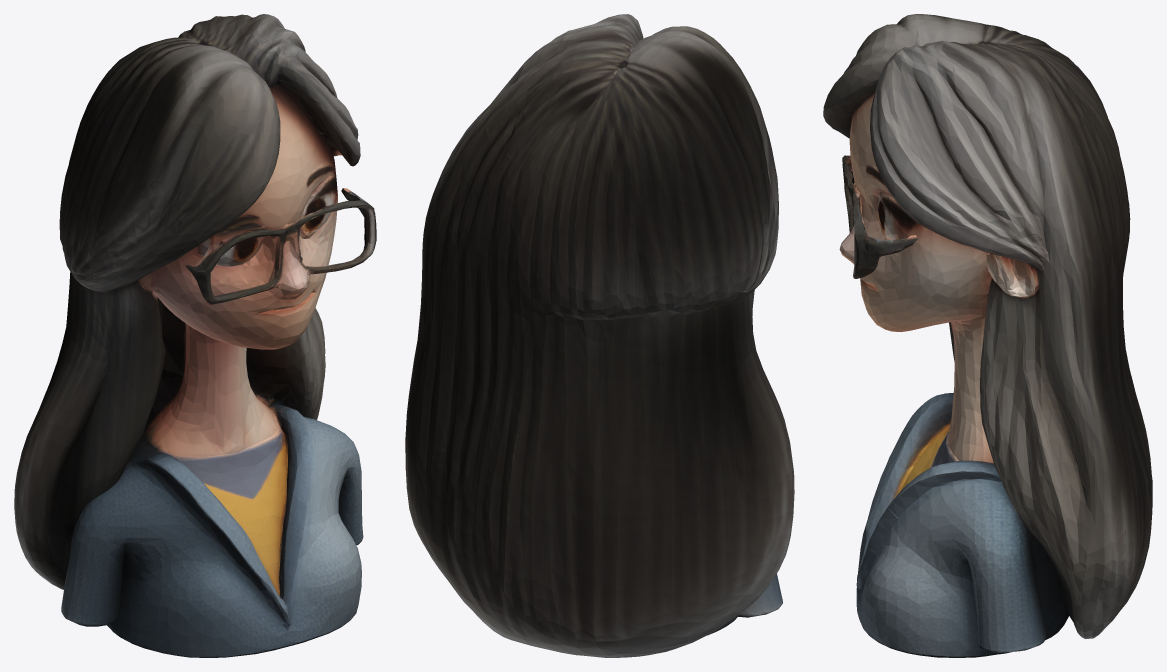
The model's file is Cutie1Avatar.glb.
The picture shows the model from 3 angles, left to right: view 1: azimuth 30°, elevation 25°; view 2: azimuth 150°, elevation 25°; view 3: azimuth 270°, elevation 25°; orthographic projection. The views are drawn at different scales.
Parts seen in each view (by area): view 1: world; view 2: world; view 3: world.
Part boxes in pixels (x1,y1,x2,y2): world: (14,14,376,657); world: (405,14,794,657); world: (823,14,1152,657).
Size of the model in its own units: 0.5486 by 0.8842 by 0.4564.
Materials: 1 (1 with a texture image).
